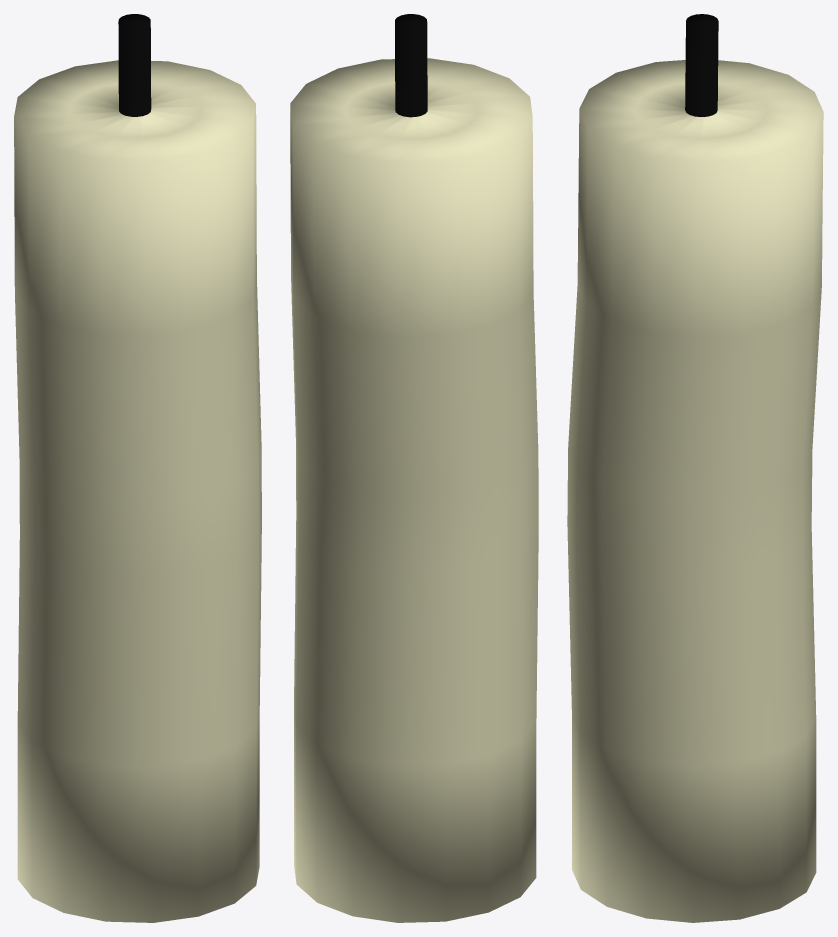
File: f_candle_2.fbx
3 renders of one model, left to right at view 1: azimuth 30°, elevation 25°; view 2: azimuth 150°, elevation 25°; view 3: azimuth 270°, elevation 25°, orthographic.
Parts seen in each view (by area): view 1: Circle.003; view 2: Circle.003; view 3: Circle.003.
Part boxes in pixels (box(x1,y1,x2,y2)): Circle.003: box(14, 14, 261, 922); Circle.003: box(290, 14, 538, 922); Circle.003: box(567, 14, 823, 922).
Size of the model in its own units: 22.5 by 86.5 by 23.58.
